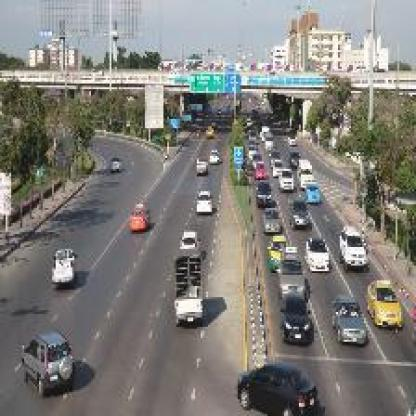other: (367, 275, 409, 333), (116, 193, 148, 232)
